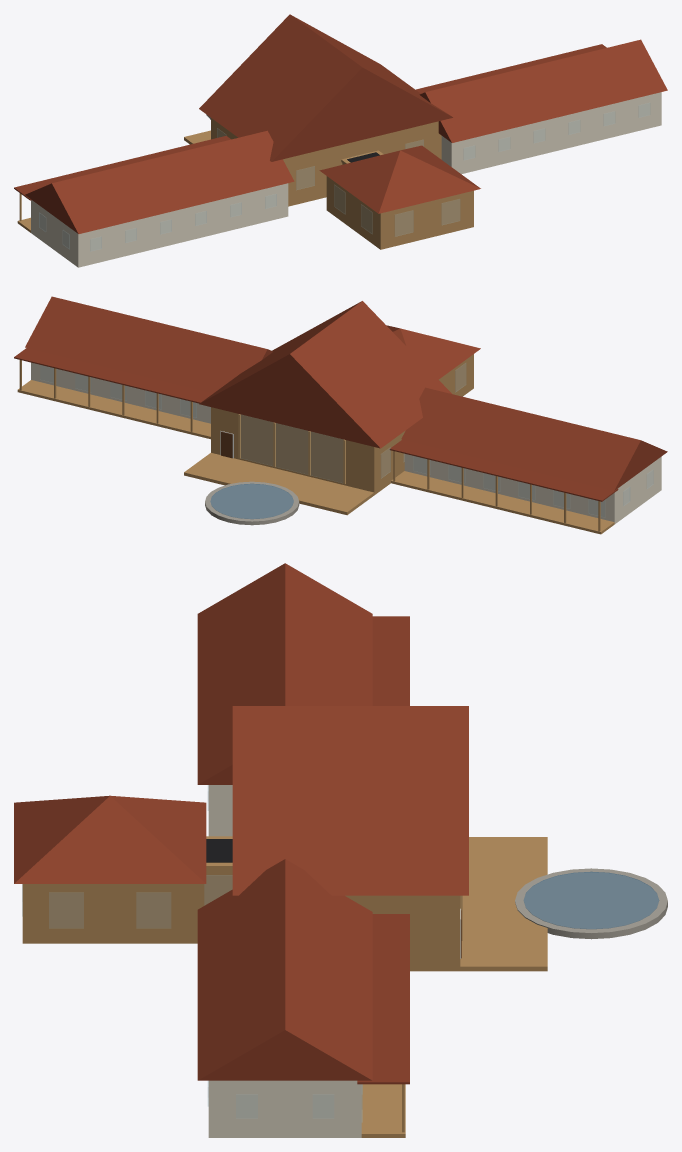
Rendered from context.type.retreat.glb.
3 renders of one model, top to bottom at view 1: azimuth 30°, elevation 25°; view 2: azimuth 150°, elevation 25°; view 3: azimuth 270°, elevation 25°, orthographic. The views are drawn at different scales.
Visible parts, largest first — view 1: roof__clay_tile, walls__render, walls__softwood, openings__glass; view 2: roof__clay_tile, walls__softwood, walls__render, openings__glass, ground__softwood, ground__paving, ground__water, openings__glulam; view 3: roof__clay_tile, walls__softwood, walls__render, ground__softwood, ground__paving, ground__water, openings__glass.
Part boxes in pixels (bbox=[...]): roof__clay_tile: bbox=[14, 14, 667, 233]; walls__render: bbox=[31, 92, 661, 267]; walls__softwood: bbox=[17, 118, 473, 249]; openings__glass: bbox=[39, 103, 649, 251]; roof__clay_tile: bbox=[14, 296, 667, 501]; walls__softwood: bbox=[17, 354, 614, 534]; walls__render: bbox=[31, 362, 661, 523]; openings__glass: bbox=[40, 363, 653, 517]; ground__softwood: bbox=[184, 453, 374, 515]; ground__paving: bbox=[205, 481, 299, 525]; ground__water: bbox=[210, 483, 293, 519]; openings__glulam: bbox=[238, 414, 345, 484]; roof__clay_tile: bbox=[14, 563, 468, 1084]; walls__softwood: bbox=[22, 870, 460, 1137]; walls__render: bbox=[208, 785, 361, 1137]; ground__softwood: bbox=[460, 837, 547, 971]; ground__paving: bbox=[515, 868, 667, 939]; ground__water: bbox=[523, 871, 659, 929]; openings__glass: bbox=[22, 785, 362, 1122].
Size of the model in its own units: 50.5 by 10.17 by 29.9.
